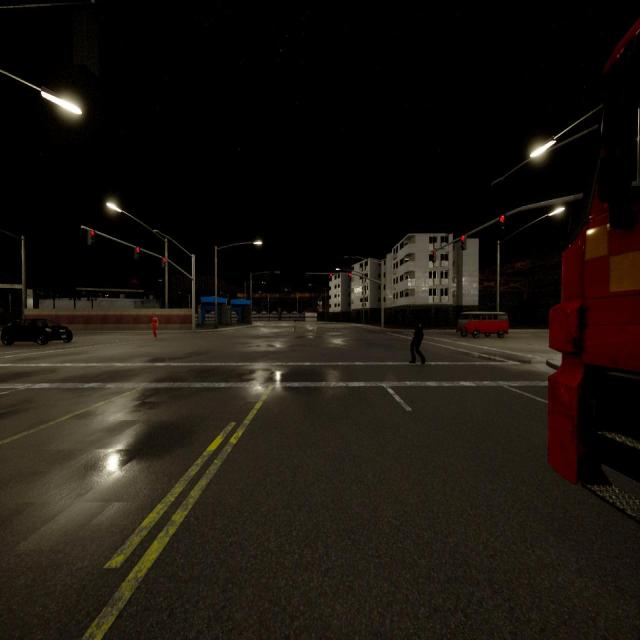Pedestrian: (410, 321, 426, 364), (152, 314, 158, 339)
Vehicle: (548, 23, 640, 513), (1, 319, 72, 345), (458, 312, 508, 337)
traffic_light: (88, 230, 94, 244), (461, 235, 466, 250), (500, 216, 504, 228), (135, 248, 139, 259), (432, 251, 436, 262), (162, 258, 166, 266), (349, 274, 352, 276), (330, 274, 332, 276)
